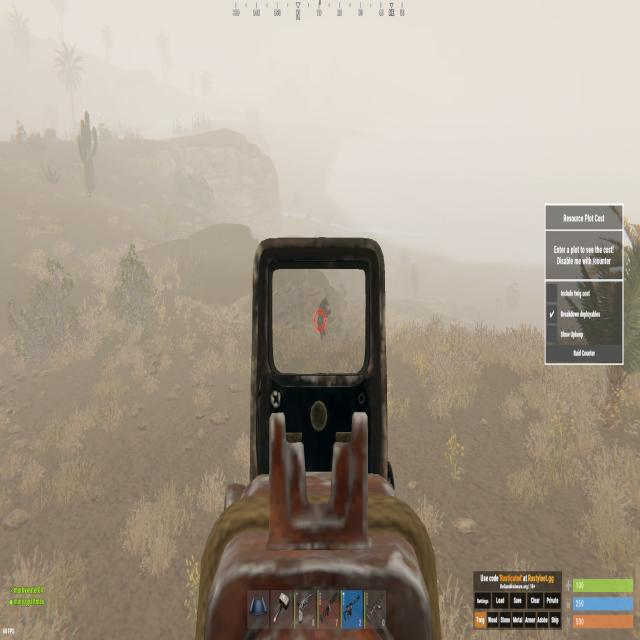Player: (317, 296, 331, 338)
